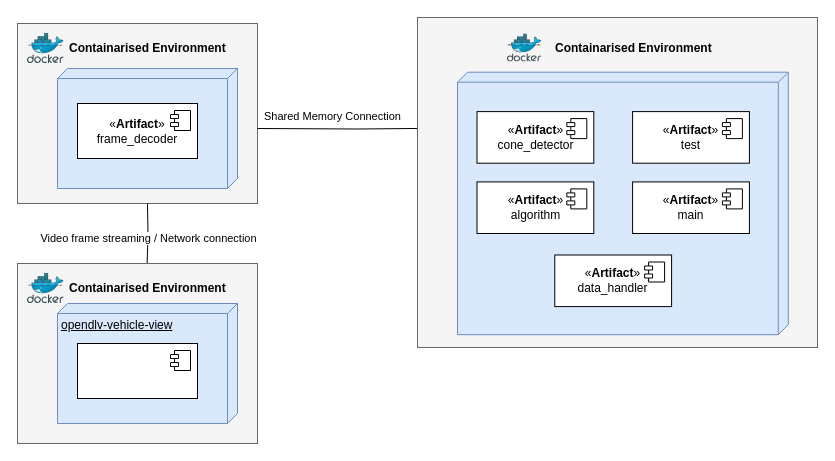
Image size: 835x461. Some labels were removed from this diagram. Here are the shapes that lost their labels. From the top down, the box of each, then its label:
(56, 68, 238, 188): opendlv-video-h264-decoder
(456, 71, 788, 335): my-open-cv-example
(76, 342, 198, 398): « Artifact » vehicle_viewer
